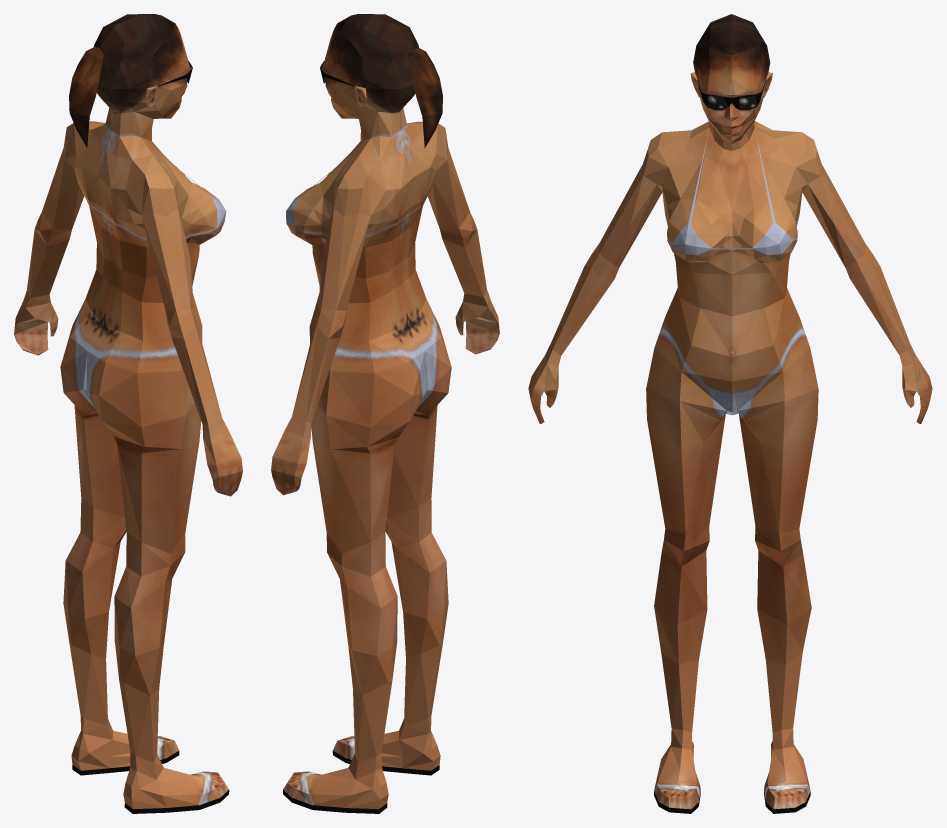
File: wfybe.obj
The picture shows the model from 3 angles, left to right: view 1: azimuth 30°, elevation 25°; view 2: azimuth 150°, elevation 25°; view 3: azimuth 270°, elevation 25°; orthographic projection.
Parts seen in each view (by area): view 1: _Pelvis; view 2: _Pelvis; view 3: _Pelvis.
Boxes of the visible parts, x1=… form: _Pelvis: x1=14, y1=14, x2=242, y2=813; _Pelvis: x1=271, y1=14, x2=499, y2=813; _Pelvis: x1=528, y1=14, x2=932, y2=813.
Size of the model in its own units: 0.3314 by 1.8 by 0.8627.
Materials: 1 (1 with a texture image).
